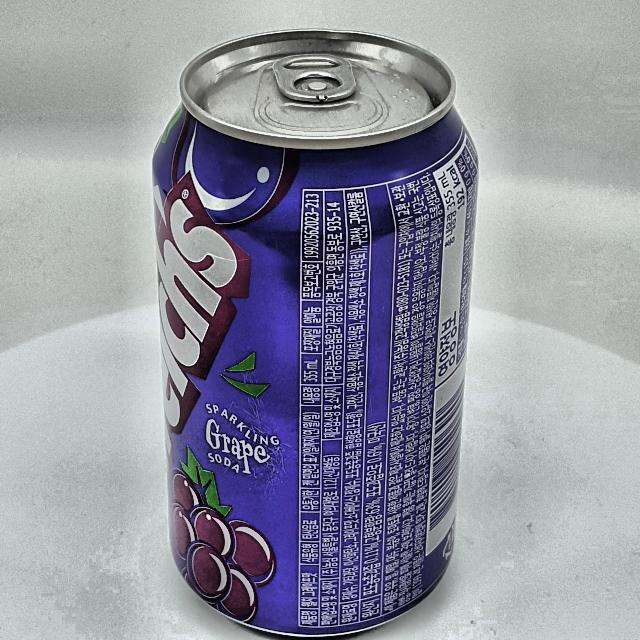welchs: (152, 30, 478, 635)
